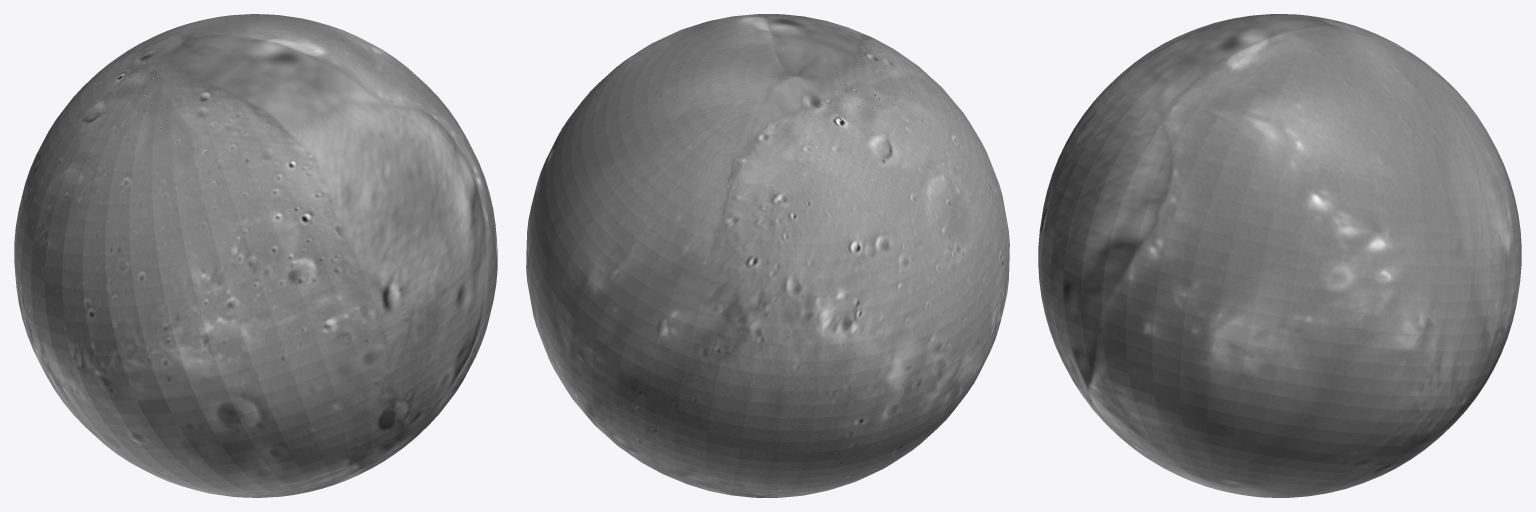
Rendered from deimos.obj.
The picture shows the model from 3 angles, left to right: view 1: azimuth 30°, elevation 25°; view 2: azimuth 150°, elevation 25°; view 3: azimuth 270°, elevation 25°; orthographic projection.
Visible parts, largest first — view 1: Plane; view 2: Plane; view 3: Plane.
Part boxes in pixels (x1,y1,x2,y2): Plane: (14, 14, 497, 497); Plane: (526, 14, 1009, 497); Plane: (1038, 14, 1521, 497).
Size of the model in its own units: 2.61 by 2.61 by 2.61.
Materials: 1 (1 with a texture image).
